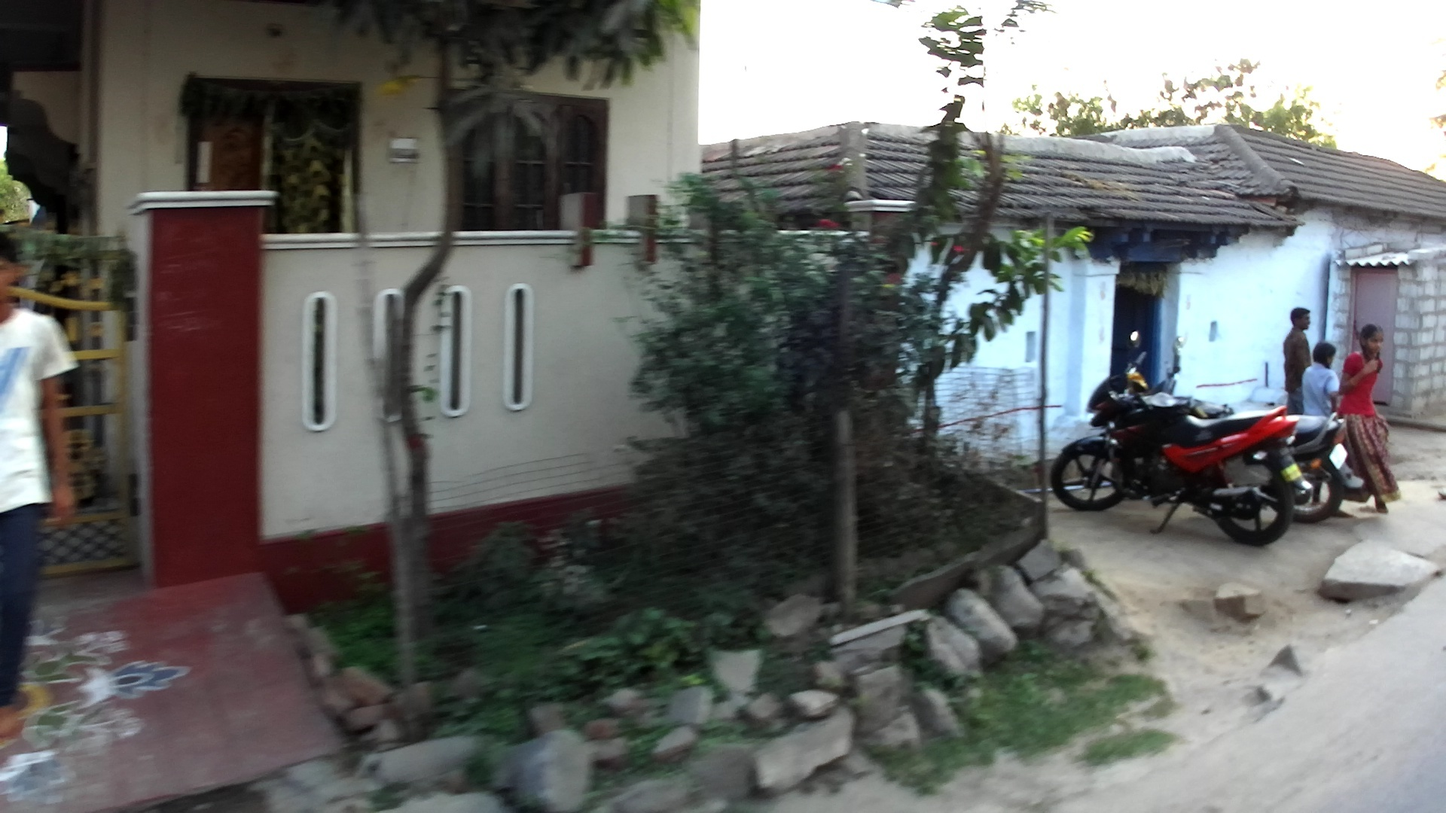motorcycle: (1048, 329, 1315, 549), (1149, 336, 1366, 524)
person: (1, 228, 78, 736), (1336, 321, 1402, 516), (1283, 307, 1313, 417), (1301, 343, 1341, 419)
